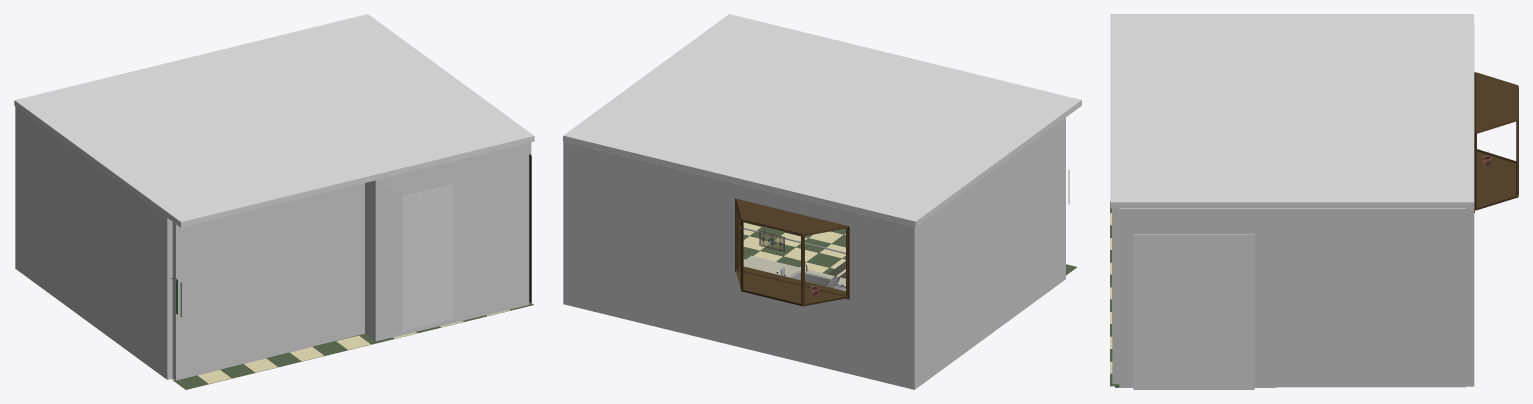
The model's file is kitchen_gltf_no_window_cover.gltf.
3 renders of one model, left to right at view 1: azimuth 30°, elevation 25°; view 2: azimuth 150°, elevation 25°; view 3: azimuth 270°, elevation 25°, orthographic. The views are drawn at different scales.
Visible parts, largest first — view 1: Ceiling, Wall, Wall.002, Boolean.005, Floor, Plane.035; view 2: Ceiling, Window Wall, Wall.002, Bay Window, Floor, Window Frame, Countertop; view 3: Ceiling, Wall.001, Boolean.004, Bay Window, Window Wall, Wall, Floor.
Boxes of the visible parts, x1=… form: Ceiling: x1=14, y1=14, x2=534, y2=227; Wall: x1=172, y1=143, x2=528, y2=380; Wall.002: x1=15, y1=107, x2=172, y2=379; Boolean.005: x1=402, y1=184, x2=453, y2=330; Floor: x1=171, y1=301, x2=533, y2=389; Plane.035: x1=529, y1=154, x2=531, y2=302; Ceiling: x1=563, y1=14, x2=1081, y2=227; Window Wall: x1=563, y1=141, x2=908, y2=388; Wall.002: x1=909, y1=117, x2=1065, y2=389; Bay Window: x1=735, y1=199, x2=847, y2=306; Floor: x1=743, y1=222, x2=1076, y2=275; Window Frame: x1=735, y1=198, x2=849, y2=299; Countertop: x1=743, y1=255, x2=845, y2=285; Ceiling: x1=1110, y1=14, x2=1473, y2=208; Wall.001: x1=1119, y1=208, x2=1466, y2=387; Boolean.004: x1=1133, y1=234, x2=1254, y2=389; Bay Window: x1=1475, y1=72, x2=1518, y2=210; Window Wall: x1=1466, y1=21, x2=1474, y2=386; Wall: x1=1112, y1=208, x2=1119, y2=383; Floor: x1=1110, y1=201, x2=1119, y2=386.
Size of the model in its own units: 5.56 by 2.56 by 5.07.
